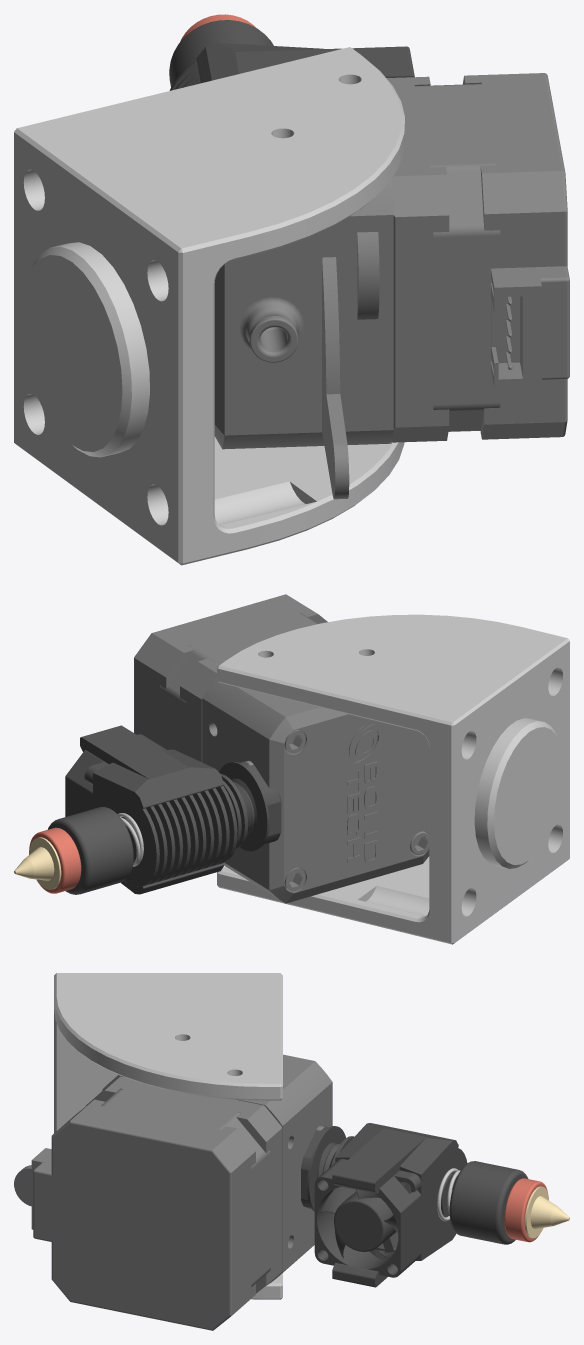
The model's file is Extruder.glb.
The picture shows the model from 3 angles, top to bottom: view 1: azimuth 30°, elevation 25°; view 2: azimuth 150°, elevation 25°; view 3: azimuth 270°, elevation 25°; orthographic projection. The views are drawn at different scales.
Visible parts, largest first — view 1: Extruder_mount_GoFav12 v2; view 2: Extruder_mount_GoFav12 v2; view 3: Extruder_mount_GoFav12 v2.
Boxes of the visible parts, x1,y1,x2,y2 form: Extruder_mount_GoFav12 v2: [14, 14, 569, 565]; Extruder_mount_GoFav12 v2: [14, 594, 569, 944]; Extruder_mount_GoFav12 v2: [14, 973, 569, 1330].
Bounding box in the file's own units: 8.56 × 5 × 11.67.
